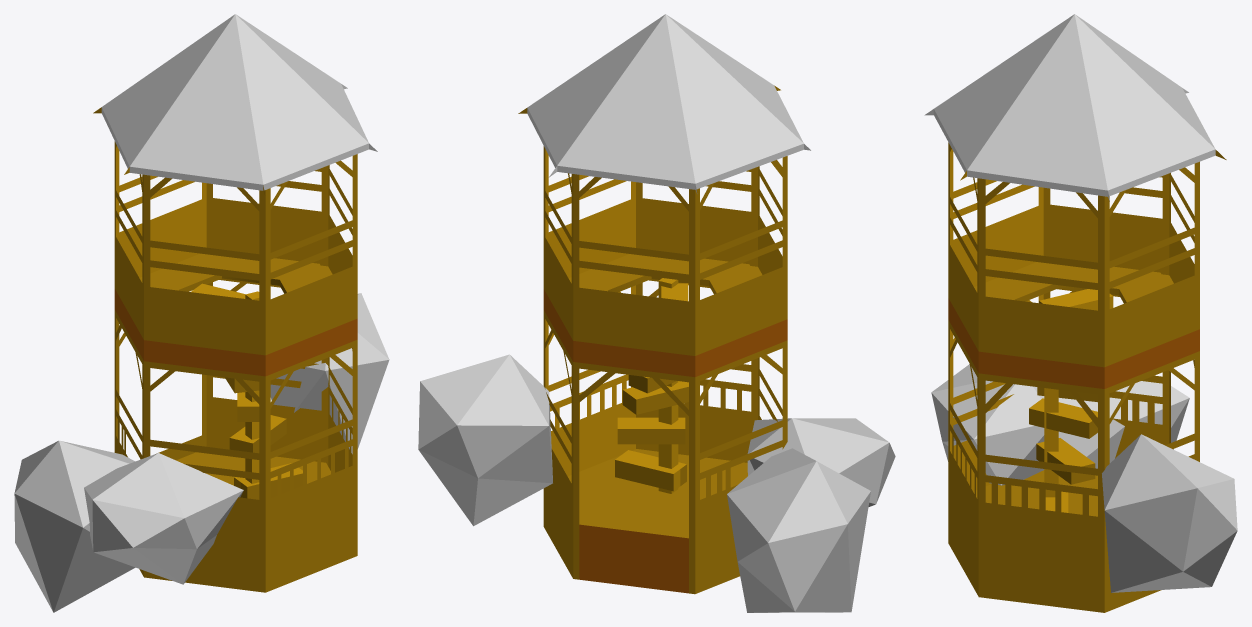
File: SummerHouseWinter.gltf
3 views of the same model, side by side, from view 1: azimuth 30°, elevation 25°; view 2: azimuth 150°, elevation 25°; view 3: azimuth 270°, elevation 25° (orthographic). The views are drawn at different scales.
Visible parts, largest first — view 1: Mesh182_SummerHouse2_1_Component_5_1_Component_2_1_Model, Mesh187_SummerHouse2_1_Component_5_1_Component_2_1_Model, Mesh189_SummerHouse2_1_Component_5_1_Component_2_1_Model, Mesh181_SummerHouse2_1_Component_5_1_Component_2_1_Model, Mesh179_SummerHouse2_1_Component_5_1_Component_2_1_Model, Mesh180_SummerHouse2_1_Component_5_1_Component_2_1_Model, Mesh183_SummerHouse2_1_Component_5_1_Component_2_1_Model, Mesh186_SummerHouse2_1_Component_5_1_Component_2_1_Model, Mesh177_Group59_SummerHouse2_1_Component_5_1_Component_2_1_M, Mesh190_SummerHouse2_1_Component_5_1_Component_2_1_Model; view 2: Mesh182_SummerHouse2_1_Component_5_1_Component_2_1_Model, Mesh187_SummerHouse2_1_Component_5_1_Component_2_1_Model, Mesh181_SummerHouse2_1_Component_5_1_Component_2_1_Model, Mesh179_SummerHouse2_1_Component_5_1_Component_2_1_Model, Mesh180_SummerHouse2_1_Component_5_1_Component_2_1_Model, Mesh189_SummerHouse2_1_Component_5_1_Component_2_1_Model, Mesh183_SummerHouse2_1_Component_5_1_Component_2_1_Model, Mesh186_SummerHouse2_1_Component_5_1_Component_2_1_Model, Mesh190_SummerHouse2_1_Component_5_1_Component_2_1_Model, Mesh177_Group59_SummerHouse2_1_Component_5_1_Component_2_1_M; view 3: Mesh182_SummerHouse2_1_Component_5_1_Component_2_1_Model, Mesh187_SummerHouse2_1_Component_5_1_Component_2_1_Model, Mesh179_SummerHouse2_1_Component_5_1_Component_2_1_Model, Mesh189_SummerHouse2_1_Component_5_1_Component_2_1_Model, Mesh181_SummerHouse2_1_Component_5_1_Component_2_1_Model, Mesh180_SummerHouse2_1_Component_5_1_Component_2_1_Model, Mesh190_SummerHouse2_1_Component_5_1_Component_2_1_Model, Mesh186_SummerHouse2_1_Component_5_1_Component_2_1_Model, Mesh177_Group59_SummerHouse2_1_Component_5_1_Component_2_1_M, Mesh184_SummerHouse2_1_Component_5_1_Component_2_1_Model.
Part boxes in pixels (left/top/right/bottom): Mesh182_SummerHouse2_1_Component_5_1_Component_2_1_Model: left=114, top=141, right=357, bottom=592; Mesh187_SummerHouse2_1_Component_5_1_Component_2_1_Model: left=93, top=14, right=377, bottom=195; Mesh189_SummerHouse2_1_Component_5_1_Component_2_1_Model: left=84, top=453, right=243, bottom=584; Mesh181_SummerHouse2_1_Component_5_1_Component_2_1_Model: left=14, top=440, right=135, bottom=612; Mesh179_SummerHouse2_1_Component_5_1_Component_2_1_Model: left=270, top=293, right=389, bottom=454; Mesh180_SummerHouse2_1_Component_5_1_Component_2_1_Model: left=176, top=452, right=330, bottom=485; Mesh183_SummerHouse2_1_Component_5_1_Component_2_1_Model: left=234, top=463, right=302, bottom=499; Mesh186_SummerHouse2_1_Component_5_1_Component_2_1_Model: left=229, top=415, right=286, bottom=453; Mesh177_Group59_SummerHouse2_1_Component_5_1_Component_2_1_M: left=245, top=291, right=259, bottom=483; Mesh190_SummerHouse2_1_Component_5_1_Component_2_1_Model: left=237, top=392, right=259, bottom=421; Mesh182_SummerHouse2_1_Component_5_1_Component_2_1_Model: left=543, top=146, right=787, bottom=594; Mesh187_SummerHouse2_1_Component_5_1_Component_2_1_Model: left=518, top=14, right=810, bottom=193; Mesh181_SummerHouse2_1_Component_5_1_Component_2_1_Model: left=727, top=448, right=870, bottom=612; Mesh179_SummerHouse2_1_Component_5_1_Component_2_1_Model: left=418, top=354, right=552, bottom=526; Mesh180_SummerHouse2_1_Component_5_1_Component_2_1_Model: left=567, top=449, right=747, bottom=538; Mesh189_SummerHouse2_1_Component_5_1_Component_2_1_Model: left=747, top=418, right=895, bottom=506; Mesh183_SummerHouse2_1_Component_5_1_Component_2_1_Model: left=615, top=450, right=686, bottom=491; Mesh186_SummerHouse2_1_Component_5_1_Component_2_1_Model: left=617, top=417, right=685, bottom=444; Mesh190_SummerHouse2_1_Component_5_1_Component_2_1_Model: left=622, top=381, right=688, bottom=414; Mesh177_Group59_SummerHouse2_1_Component_5_1_Component_2_1_M: left=658, top=278, right=678, bottom=493; Mesh182_SummerHouse2_1_Component_5_1_Component_2_1_Model: left=948, top=142, right=1199, bottom=612; Mesh187_SummerHouse2_1_Component_5_1_Component_2_1_Model: left=924, top=14, right=1226, bottom=201; Mesh179_SummerHouse2_1_Component_5_1_Component_2_1_Model: left=1102, top=434, right=1237, bottom=592; Mesh189_SummerHouse2_1_Component_5_1_Component_2_1_Model: left=931, top=364, right=1044, bottom=485; Mesh181_SummerHouse2_1_Component_5_1_Component_2_1_Model: left=1058, top=381, right=1189, bottom=468; Mesh180_SummerHouse2_1_Component_5_1_Component_2_1_Model: left=973, top=470, right=1097, bottom=516; Mesh190_SummerHouse2_1_Component_5_1_Component_2_1_Model: left=1029, top=398, right=1097, bottom=438; Mesh186_SummerHouse2_1_Component_5_1_Component_2_1_Model: left=1036, top=438, right=1095, bottom=484; Mesh177_Group59_SummerHouse2_1_Component_5_1_Component_2_1_M: left=1044, top=300, right=1058, bottom=497; Mesh184_SummerHouse2_1_Component_5_1_Component_2_1_Model: left=1039, top=289, right=1113, bottom=310.
Size of the model in its own units: 1500 by 2050 by 1018.
